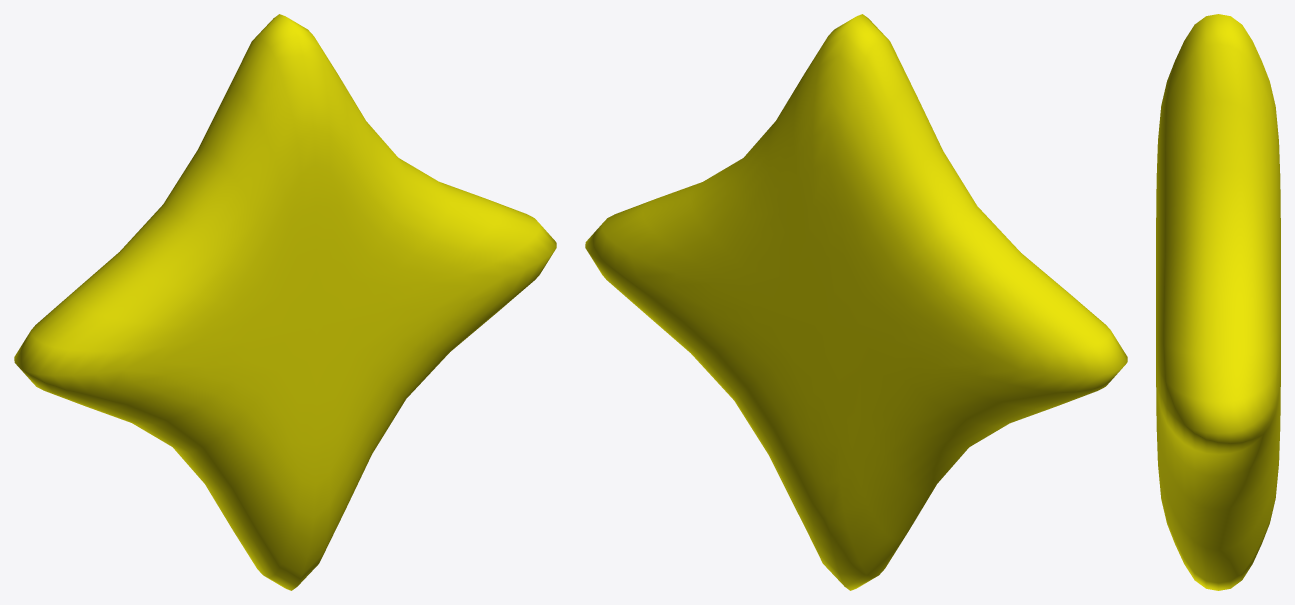
Rendered from star.fbx.
The picture shows the model from 3 angles, left to right: view 1: azimuth 30°, elevation 25°; view 2: azimuth 150°, elevation 25°; view 3: azimuth 270°, elevation 25°; orthographic projection.
Visible parts, largest first — view 1: Cube; view 2: Cube; view 3: Cube.
Part boxes in pixels (x1=…): Cube: x1=14, y1=14, x2=556, y2=590; Cube: x1=585, y1=14, x2=1127, y2=590; Cube: x1=1156, y1=14, x2=1280, y2=590.
Size of the model in its own units: 1.55 by 1.59 by 0.3124.
